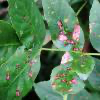Apple rust leaf: (41, 1, 87, 54), (1, 49, 45, 99), (49, 53, 93, 99), (17, 8, 45, 49)
